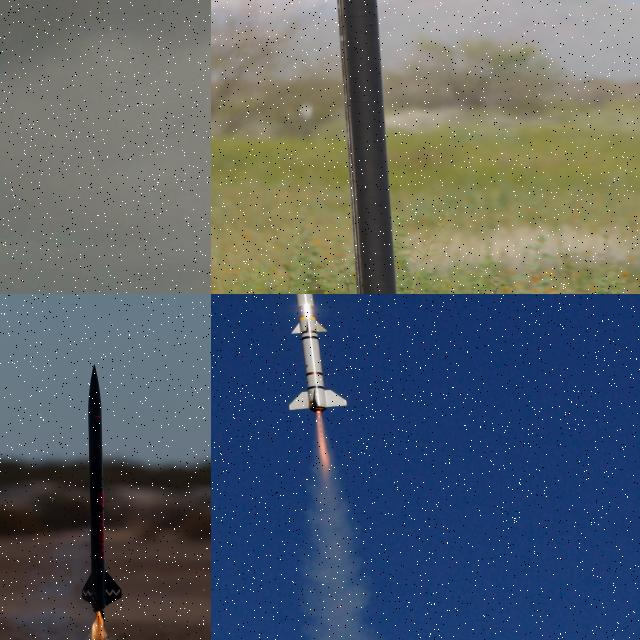Rocket: (311, 0, 428, 294), (80, 363, 124, 616), (286, 294, 350, 414)
